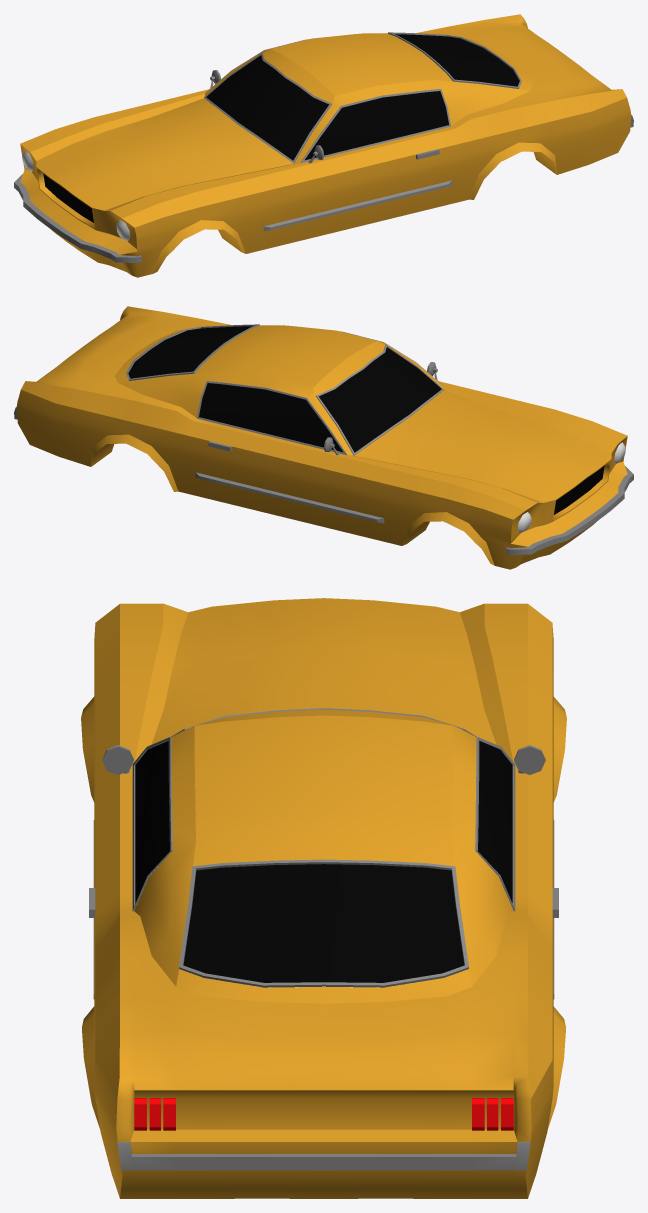
The model's file is chassis.glb.
The picture shows the model from 3 angles, top to bottom: view 1: azimuth 30°, elevation 25°; view 2: azimuth 150°, elevation 25°; view 3: azimuth 270°, elevation 25°; orthographic projection. The views are drawn at different scales.
Parts seen in each view (by area): view 1: shadeOrange, shadeBlack.006, shadeBlack.004, shadeBlack.007, shadeSilver.007, shadeSilver.001, shadeSilver.003, shadeSilver.005, shadeSilver.004, shadeBlack.008; view 2: shadeOrange, shadeBlack.006, shadeBlack.005, shadeBlack.007, shadeSilver.007, shadeSilver.008, shadeSilver.009, shadeSilver.005, shadeSilver.004, shadeBlack.008; view 3: shadeOrange, shadeBlack.007, shadeSilver, shadeBlack.005, shadeBlack.004, shadeSilver.004, shadeSilver.009, shadeSilver.003, pureRed, pureRed.001.
Boxes of the visible parts, box(x1,y1,x2,y2) form: shadeOrange: box(20, 14, 631, 277); shadeBlack.006: box(206, 55, 328, 160); shadeBlack.004: box(305, 91, 448, 160); shadeBlack.007: box(395, 34, 519, 86); shadeSilver.007: box(14, 174, 141, 262); shadeSilver.001: box(263, 180, 452, 231); shadeSilver.003: box(300, 89, 450, 163); shadeSilver.005: box(204, 52, 331, 163); shadeSilver.004: box(388, 32, 521, 88); shadeBlack.008: box(43, 173, 93, 222); shadeOrange: box(16, 306, 627, 569); shadeBlack.006: box(319, 347, 441, 452); shadeBlack.005: box(199, 383, 342, 452); shadeBlack.007: box(128, 326, 252, 378); shadeSilver.007: box(506, 466, 633, 554); shadeSilver.008: box(195, 472, 384, 523); shadeSilver.009: box(197, 381, 347, 455); shadeSilver.005: box(316, 344, 443, 455); shadeSilver.004: box(126, 324, 259, 380); shadeBlack.008: box(554, 465, 604, 514); shadeOrange: box(81, 598, 566, 1198); shadeBlack.007: box(183, 864, 464, 986); shadeSilver: box(117, 1142, 530, 1170); shadeBlack.005: box(478, 741, 512, 902); shadeBlack.004: box(135, 741, 169, 902); shadeSilver.004: box(179, 859, 468, 987); shadeSilver.009: box(475, 737, 515, 911); shadeSilver.003: box(132, 737, 172, 911); pureRed: box(472, 1098, 513, 1130); pureRed.001: box(134, 1098, 175, 1130).
Bounding box in the file's own units: 3.42 × 0.7481 × 1.35.
